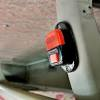bell: (41, 22, 76, 76)
